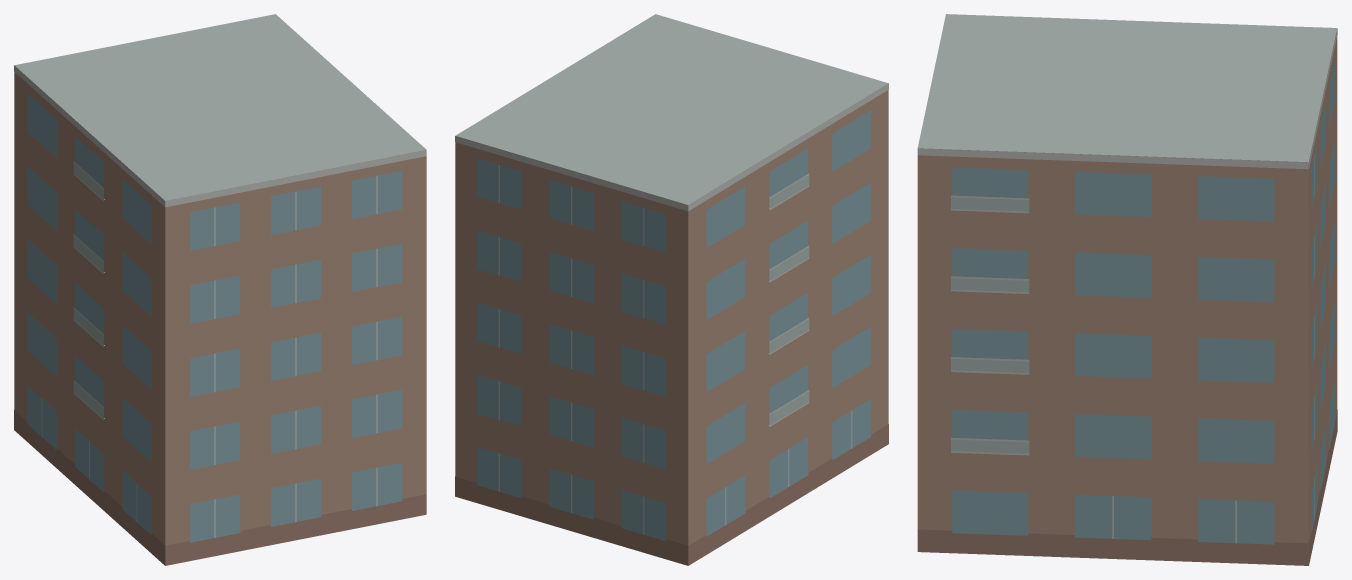
The model's file is survey-upis-32762003.glb.
3 views of the same model, side by side, from view 1: azimuth 30°, elevation 25°; view 2: azimuth 150°, elevation 25°; view 3: azimuth 270°, elevation 25° (orthographic). The views are drawn at different scales.
Visible parts, largest first — view 1: survey-upis-32762003.tmp; view 2: survey-upis-32762003.tmp; view 3: survey-upis-32762003.tmp.
Part boxes in pixels (<box>): survey-upis-32762003.tmp: <box>14,14,426,565</box>; survey-upis-32762003.tmp: <box>455,14,888,565</box>; survey-upis-32762003.tmp: <box>917,14,1337,565</box>.
Bounding box in the file's own units: 10.95 × 13.9 × 13.11.
